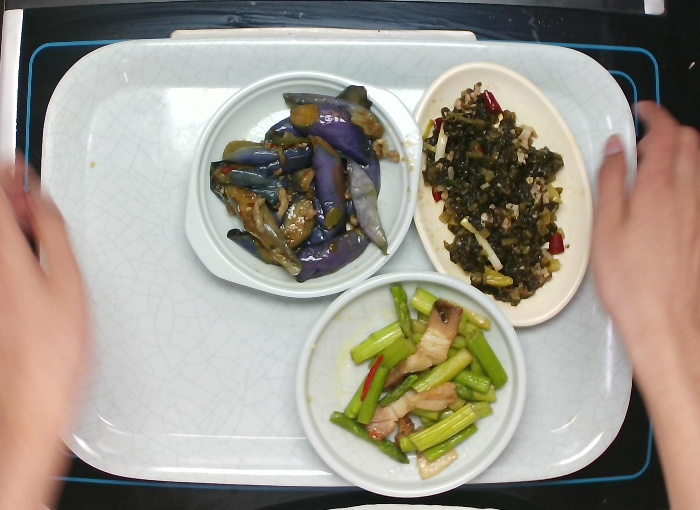JYsf-Shuang_Er_Pan: (178, 65, 427, 302)
JYsf-Tuo_Yuan_Wan: (403, 56, 599, 332)
JYsf-Xiao_Yuan_Pan: (288, 265, 530, 501)
